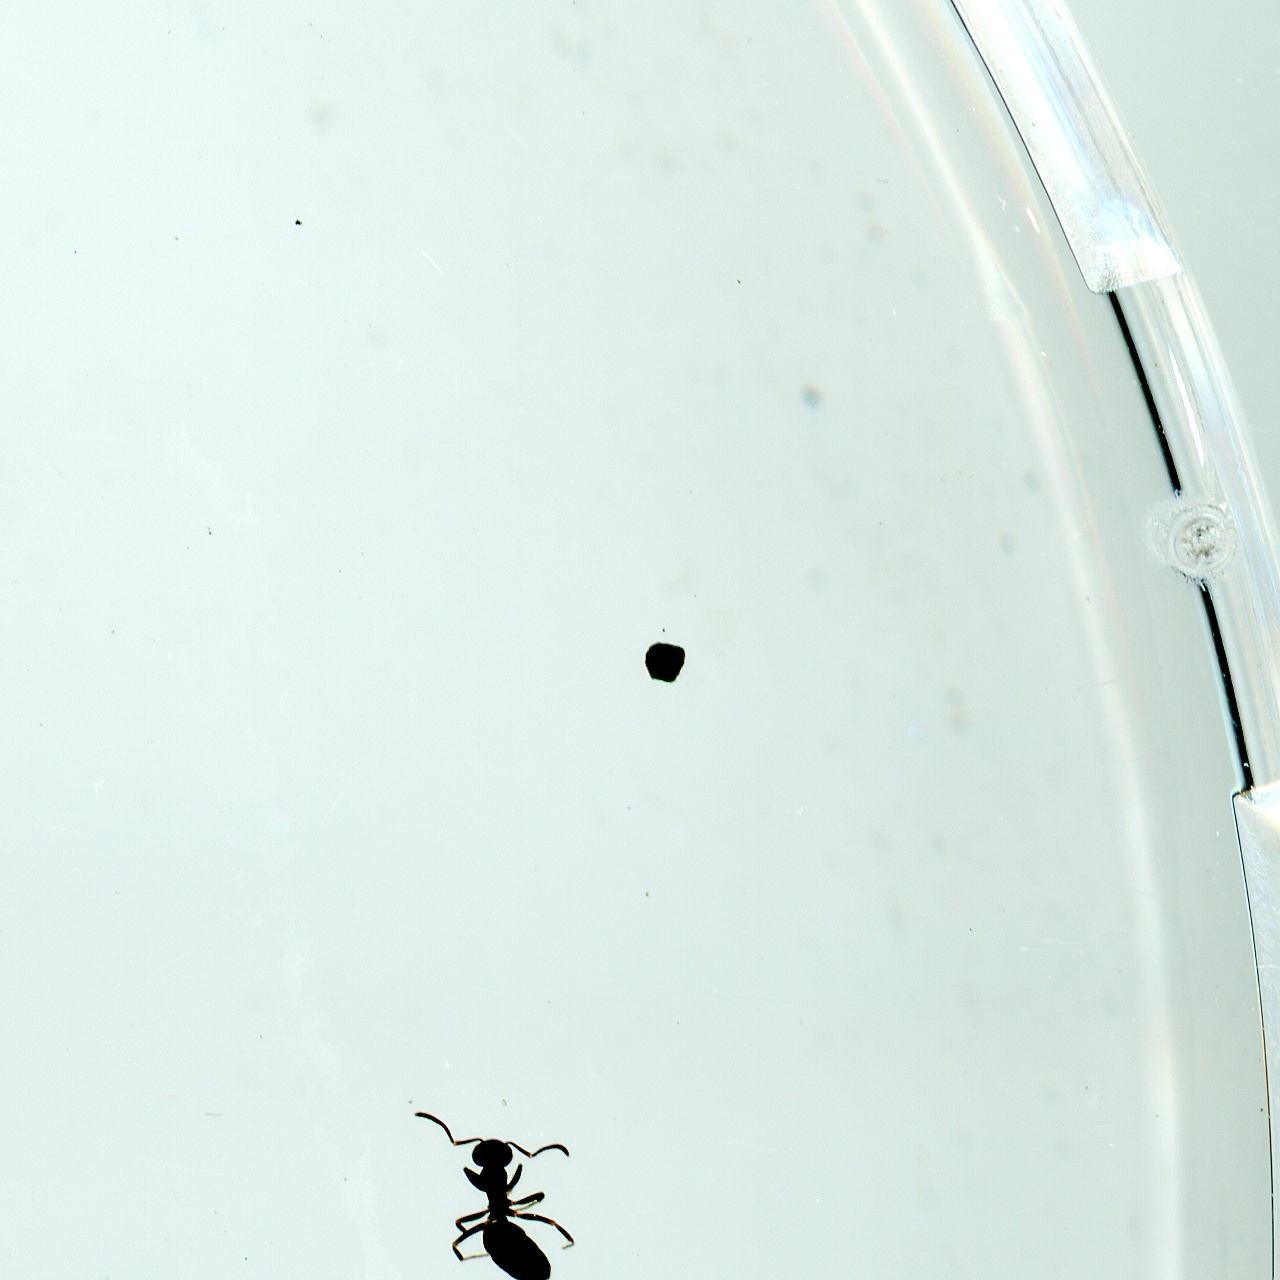arthropod: (362, 1036, 595, 1280)
